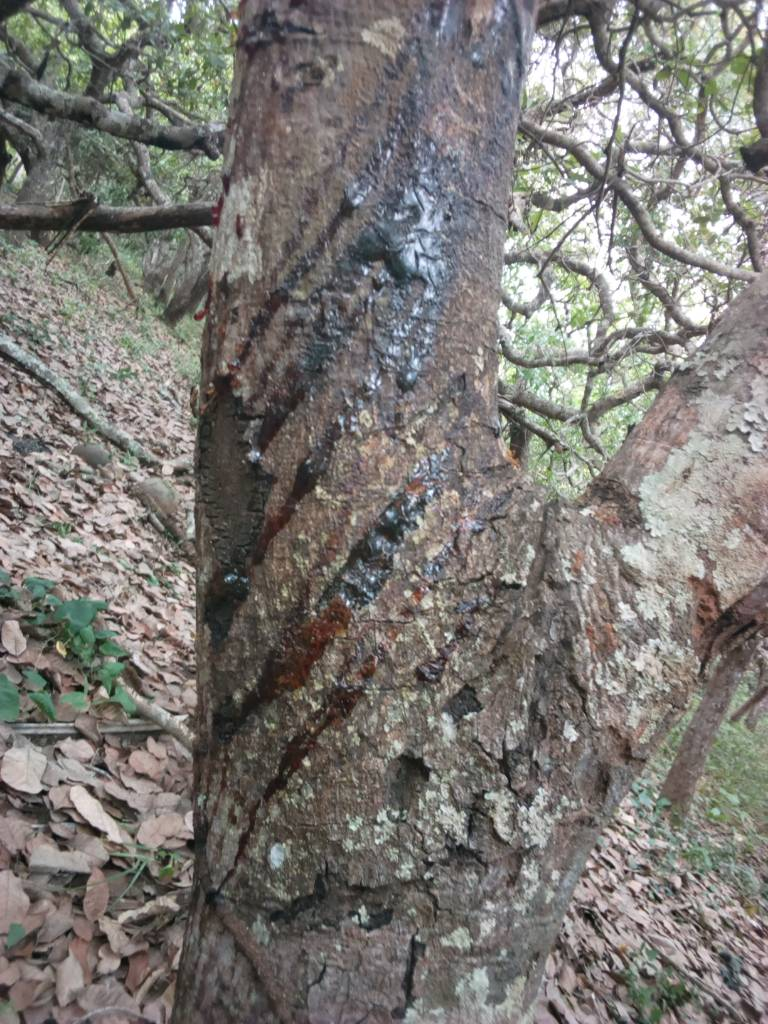Gommose: (210, 100, 479, 827)
